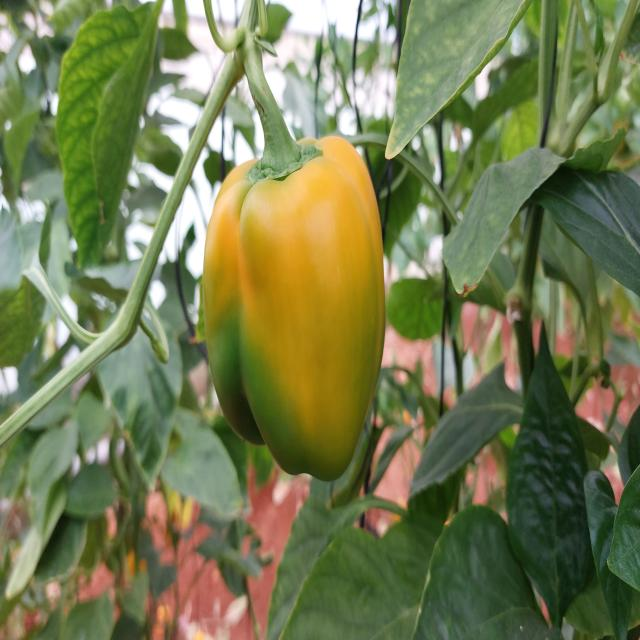GreenishYellow--Can-be-Harvested: (169, 103, 411, 514)
